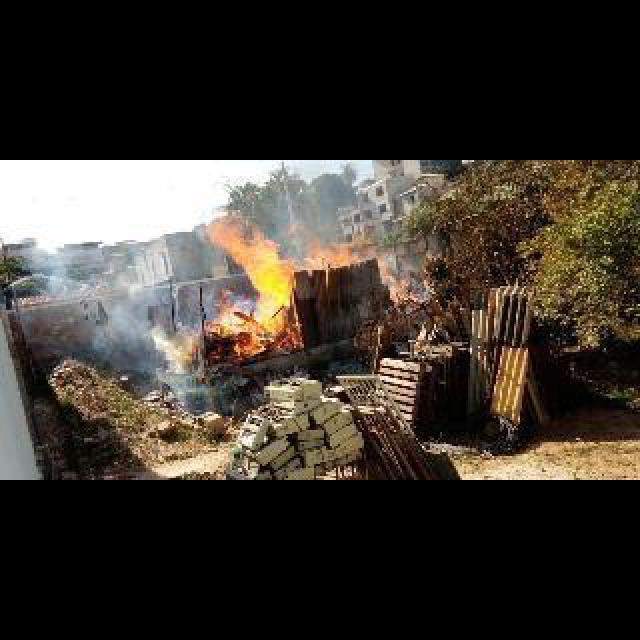Fire: (208, 210, 300, 346), (302, 218, 372, 264), (380, 250, 418, 300)
Smoke: (90, 282, 156, 362), (26, 246, 90, 308), (150, 366, 218, 416)
